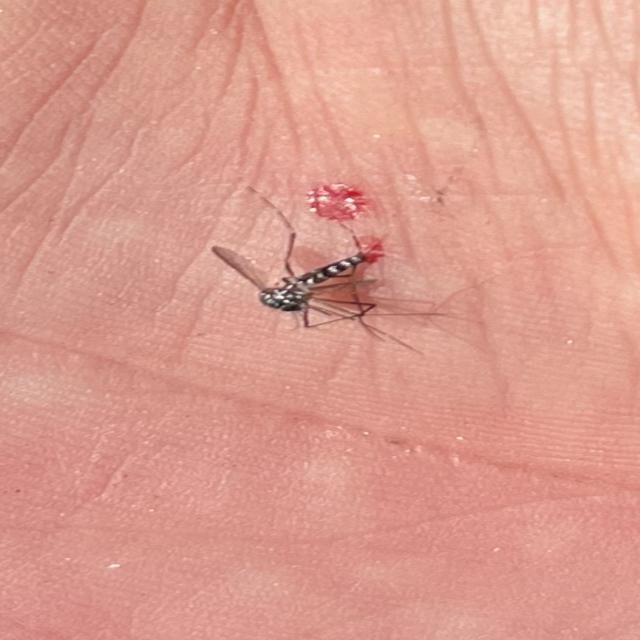albopictus: (193, 179, 453, 350)
